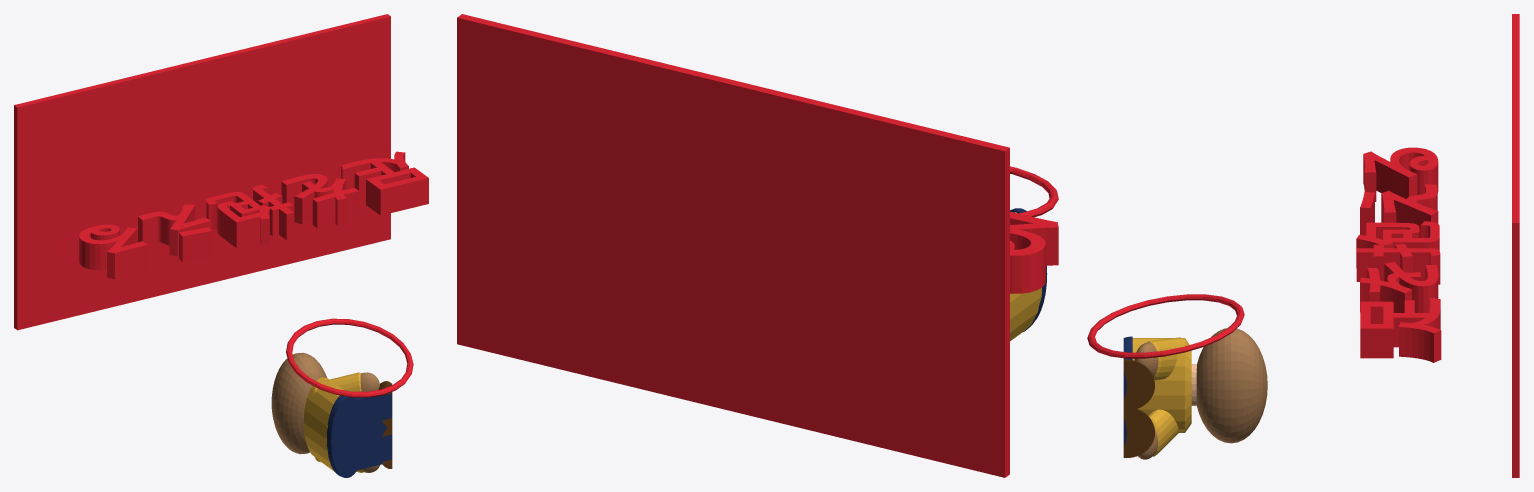
Rendered from tinker.obj.
3 views of the same model, side by side, from view 1: azimuth 30°, elevation 25°; view 2: azimuth 150°, elevation 25°; view 3: azimuth 270°, elevation 25° (orthographic). The views are drawn at different scales.
Visible parts, largest first — view 1: group_0_15277357, group_0_1650274, group_0_11107152, group_0_14789940; view 2: group_0_15277357, group_0_14789940; view 3: group_0_15277357, group_0_11107152, group_0_14789940, group_0_6306067.
Part boxes in pixels (x1=…): group_0_15277357: x1=14, y1=14, x2=428, y2=397; group_0_1650274: x1=326, y1=393, x2=392, y2=477; group_0_11107152: x1=271, y1=352, x2=380, y2=472; group_0_14789940: x1=303, y1=372, x2=363, y2=472; group_0_15277357: x1=457, y1=14, x2=1058, y2=477; group_0_14789940: x1=1010, y1=212, x2=1041, y2=341; group_0_15277357: x1=1087, y1=14, x2=1519, y2=477; group_0_11107152: x1=1134, y1=328, x2=1267, y2=459; group_0_14789940: x1=1132, y1=337, x2=1191, y2=456; group_0_6306067: x1=1123, y1=359, x2=1154, y2=457.
Size of the model in its own units: 151 by 114 by 132.
